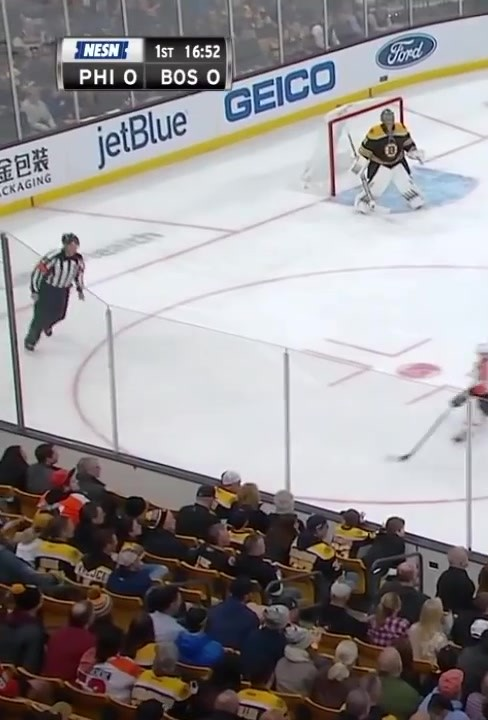Geico: (224, 50, 344, 140)
